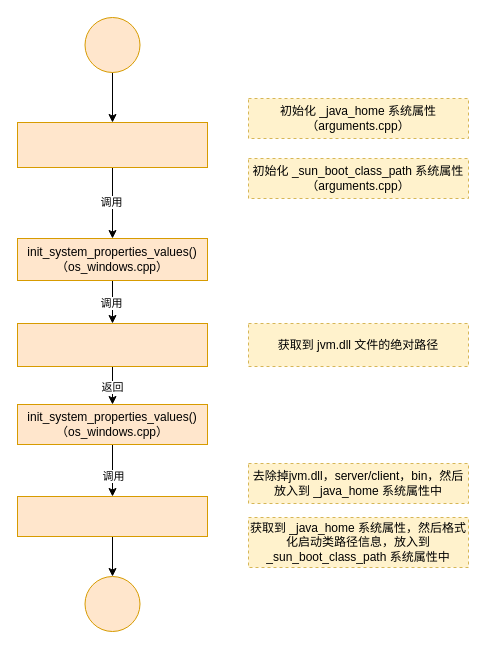
Some shapes in this 486 by 649 pixel diagram are drawn without their labels. The centre of each missing label's shape, as x and y in pixels:
init_system_properties_values() （arguments.cpp）: pixel 112 145
jvm_path() （os_windows.cpp）: pixel 112 344
set_boot_path() （os.cpp）: pixel 112 516
